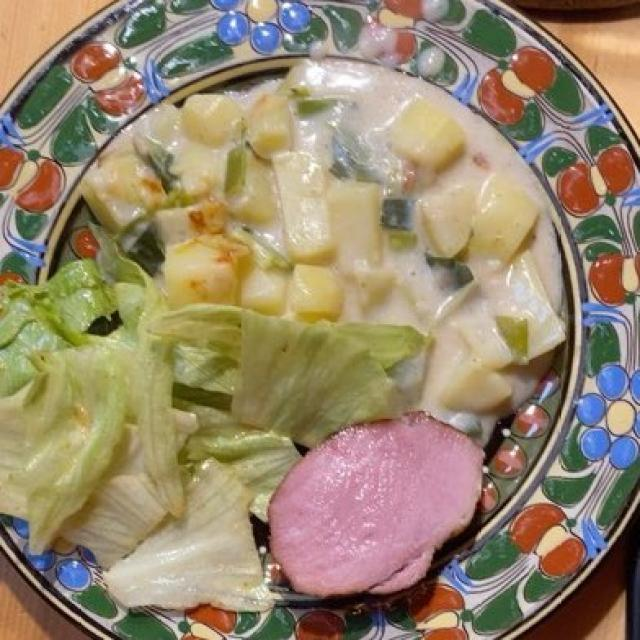ham: (275, 414, 494, 594)
leek: (301, 96, 473, 308)
potatoes: (112, 100, 563, 414)
salad: (6, 244, 423, 619)
